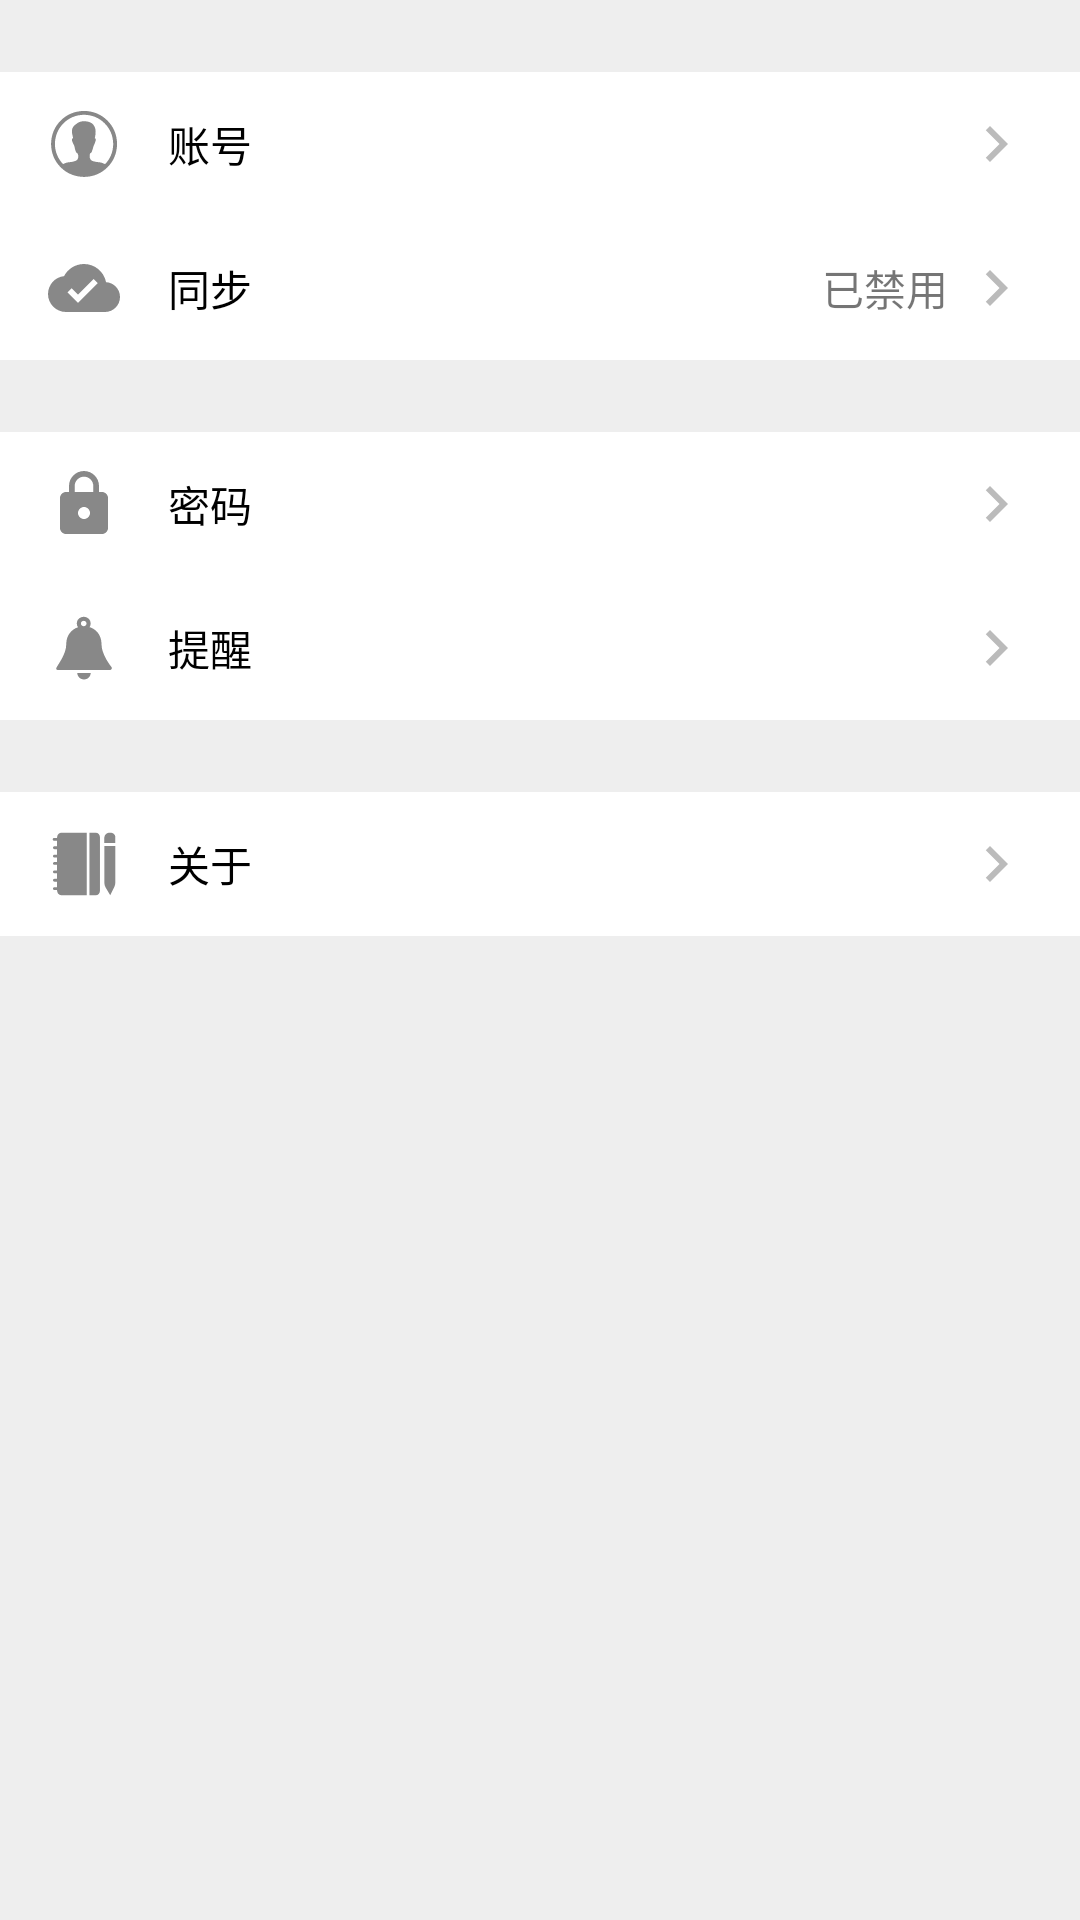

Where icons sit on this 1080w x 1920h app screen, as [x1,y1,x2,y2]:
alert: [56,616,112,680]
cloud: [48,264,120,312]
lock: [60,471,108,534]
user: [51,111,117,177]
